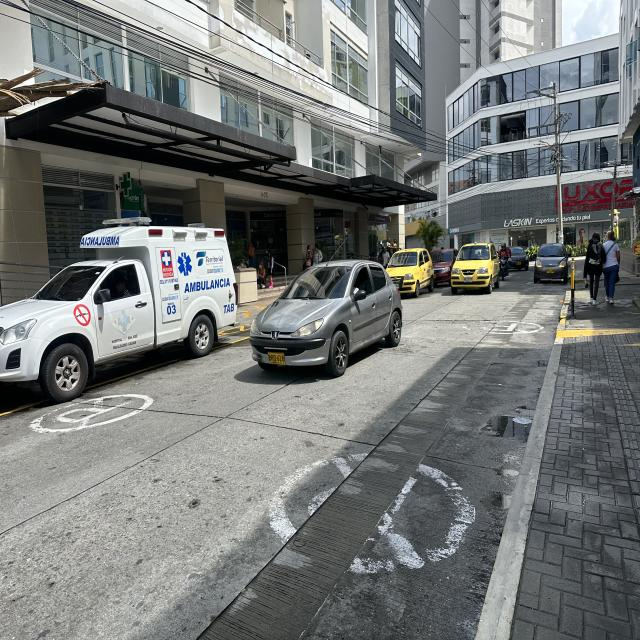number plate: (268, 352, 285, 365)
